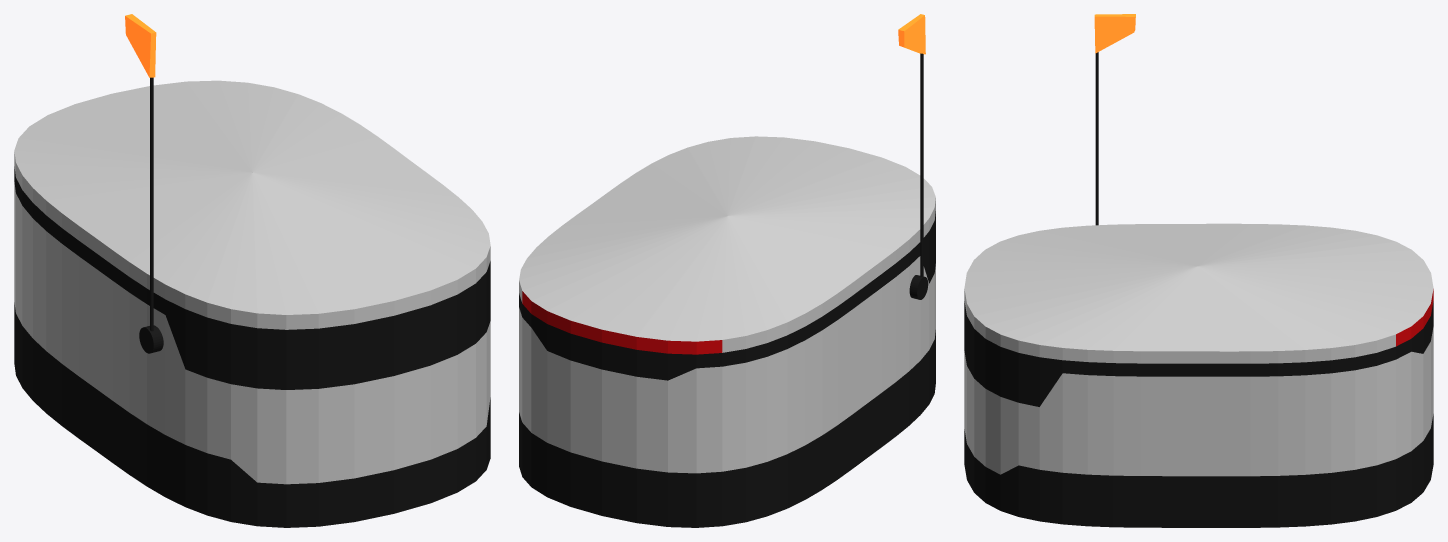
Rendered from robotVehicleBody1.0.glb.
The picture shows the model from 3 angles, left to right: view 1: azimuth 30°, elevation 25°; view 2: azimuth 150°, elevation 25°; view 3: azimuth 270°, elevation 25°; orthographic projection. The views are drawn at different scales.
Visible parts, largest first — view 1: kori; view 2: kori; view 3: kori.
Part boxes in pixels (x1,y1,x2,y2): kori: (14, 14, 490, 527); kori: (519, 14, 935, 527); kori: (964, 14, 1433, 527).
Bounding box in the file's own units: 0.8358 × 1.15 × 1.27.
